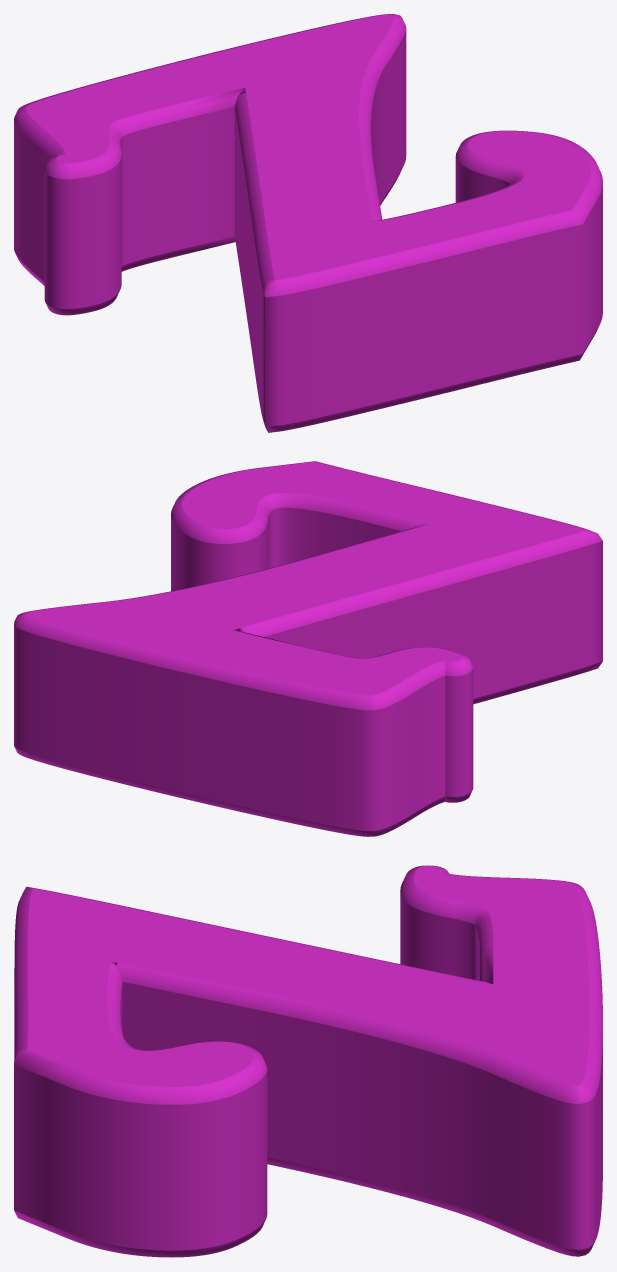
Rendered from Letter_z_Small.fbx.
3 renders of one model, top to bottom at view 1: azimuth 30°, elevation 25°; view 2: azimuth 150°, elevation 25°; view 3: azimuth 270°, elevation 25°, orthographic. The views are drawn at different scales.
Visible parts, largest first — view 1: Letter_z; view 2: Letter_z; view 3: Letter_z.
Part boxes in pixels (x1=…): Letter_z: x1=14, y1=14, x2=602, y2=432; Letter_z: x1=14, y1=461, x2=602, y2=836; Letter_z: x1=14, y1=865, x2=602, y2=1257.
Size of the model in its own units: 0.4104 by 0.14 by 0.4395.
